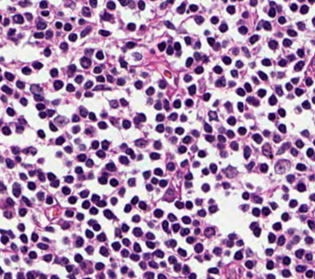nucleus: (224, 166, 236, 177), (262, 143, 271, 157), (80, 57, 90, 68), (134, 113, 145, 123), (247, 97, 259, 105), (126, 148, 135, 158), (68, 64, 76, 75), (135, 139, 146, 147), (268, 40, 277, 49), (294, 61, 303, 70), (106, 162, 115, 171), (215, 78, 225, 86), (31, 85, 41, 93), (94, 85, 110, 90), (249, 35, 258, 43), (258, 71, 267, 79), (53, 81, 62, 89), (79, 107, 87, 116), (208, 111, 217, 119), (227, 116, 235, 125), (49, 122, 57, 131), (253, 134, 261, 143), (55, 136, 64, 144), (244, 146, 250, 158), (119, 156, 128, 164), (188, 85, 195, 95), (275, 85, 282, 95), (296, 163, 306, 170), (163, 99, 169, 110), (68, 33, 76, 41), (222, 56, 230, 64), (146, 87, 154, 95), (122, 120, 130, 128), (230, 142, 238, 150), (51, 179, 59, 187), (297, 183, 305, 191), (62, 186, 70, 194), (287, 29, 296, 36), (158, 42, 165, 51), (242, 47, 249, 56), (119, 58, 126, 67), (33, 62, 42, 69), (269, 95, 276, 104), (204, 123, 211, 132), (101, 140, 108, 149), (260, 163, 267, 172), (38, 171, 44, 181), (45, 30, 52, 38), (283, 39, 291, 46), (60, 42, 67, 50), (173, 42, 180, 50), (96, 51, 103, 59), (262, 58, 270, 65), (278, 59, 286, 66), (93, 66, 101, 73), (195, 66, 203, 73), (213, 66, 221, 73), (50, 68, 57, 76), (75, 75, 82, 83), (159, 80, 166, 88), (84, 81, 92, 88), (134, 81, 142, 88), (244, 83, 251, 91), (66, 84, 74, 91), (257, 89, 265, 96), (120, 98, 127, 106), (154, 101, 161, 109), (302, 101, 310, 108), (36, 103, 44, 110), (278, 108, 285, 116), (156, 114, 164, 121), (98, 121, 106, 128), (156, 124, 163, 132), (278, 124, 285, 132), (175, 127, 183, 134), (37, 130, 44, 138), (226, 130, 234, 137), (183, 136, 191, 143), (295, 140, 303, 147), (154, 141, 161, 149), (282, 142, 289, 150), (178, 146, 186, 153), (96, 150, 104, 157), (77, 154, 85, 161), (167, 162, 174, 170), (247, 162, 254, 170), (154, 168, 162, 175), (47, 173, 55, 180), (99, 176, 106, 184), (110, 178, 117, 186), (128, 178, 135, 186), (202, 183, 209, 191), (80, 190, 88, 197), (92, 194, 99, 202), (34, 32, 43, 38), (126, 42, 135, 48), (186, 57, 192, 66), (34, 94, 43, 100), (225, 102, 231, 111), (237, 102, 243, 111), (205, 135, 214, 141), (150, 153, 159, 159), (210, 163, 216, 172), (37, 191, 43, 200), (99, 30, 109, 35), (207, 38, 214, 45), (117, 78, 124, 85), (237, 88, 244, 95), (203, 93, 210, 100), (185, 99, 192, 106), (110, 100, 117, 107), (173, 100, 180, 107), (47, 109, 54, 116), (169, 113, 176, 120), (72, 126, 79, 133), (238, 127, 245, 134), (218, 135, 225, 142), (75, 166, 82, 173), (143, 171, 150, 178), (185, 173, 192, 180), (287, 175, 294, 182), (167, 46, 173, 54), (44, 48, 50, 56), (194, 52, 200, 60), (133, 53, 141, 59), (295, 89, 303, 95), (89, 112, 95, 120), (274, 134, 280, 142), (307, 148, 313, 156), (65, 176, 73, 182), (184, 37, 190, 44), (213, 43, 219, 50), (297, 49, 303, 56), (231, 70, 237, 77), (164, 71, 171, 77), (184, 75, 191, 81), (97, 76, 104, 82), (306, 78, 312, 85), (285, 83, 291, 90), (268, 113, 274, 120), (180, 114, 186, 121), (72, 115, 79, 121), (110, 117, 116, 124), (301, 130, 308, 136), (92, 141, 98, 148), (291, 148, 297, 155), (198, 151, 205, 157), (86, 159, 92, 166), (159, 180, 166, 186), (222, 182, 229, 188), (242, 192, 248, 199), (85, 49, 93, 54), (232, 48, 238, 54), (288, 54, 294, 60), (236, 61, 242, 67), (252, 77, 258, 83), (85, 128, 91, 134), (192, 130, 198, 136), (263, 130, 269, 136), (65, 146, 71, 152), (277, 148, 283, 154), (181, 160, 187, 166), (193, 161, 199, 167), (202, 168, 208, 174), (146, 184, 152, 190), (195, 41, 200, 48), (107, 75, 112, 82), (291, 78, 298, 83), (52, 99, 59, 104), (39, 112, 46, 117), (119, 188, 124, 195), (151, 178, 157, 183), (185, 182, 191, 187), (85, 92, 92, 96), (111, 68, 116, 73), (229, 81, 234, 86), (213, 101, 218, 106), (166, 127, 171, 132), (121, 143, 126, 148), (218, 143, 223, 148), (191, 146, 196, 151), (203, 56, 207, 61), (76, 92, 80, 97), (101, 113, 106, 117), (219, 127, 224, 131), (56, 152, 61, 156), (221, 152, 226, 156), (247, 184, 252, 188), (283, 186, 287, 191), (204, 30, 208, 34), (250, 63, 254, 67), (80, 145, 84, 149), (38, 158, 42, 162), (217, 175, 221, 179), (223, 41, 226, 45), (142, 73, 146, 76), (312, 97, 314, 103), (172, 137, 175, 141), (75, 139, 79, 142), (138, 155, 141, 159)
